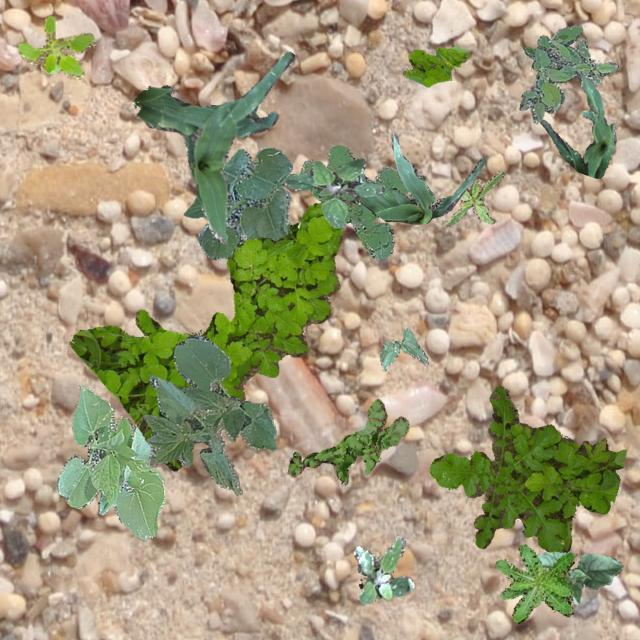crop: (132, 51, 294, 242), (142, 333, 276, 494), (56, 384, 164, 538), (348, 130, 484, 224), (182, 146, 292, 258), (540, 68, 614, 178), (536, 550, 622, 604), (378, 326, 428, 369)
weed: (69, 202, 342, 469), (428, 384, 626, 550), (300, 144, 426, 258), (286, 398, 408, 482), (518, 24, 618, 122), (284, 158, 384, 228), (495, 544, 573, 622), (17, 15, 92, 78), (352, 534, 412, 602), (444, 170, 504, 226), (402, 46, 468, 86)
